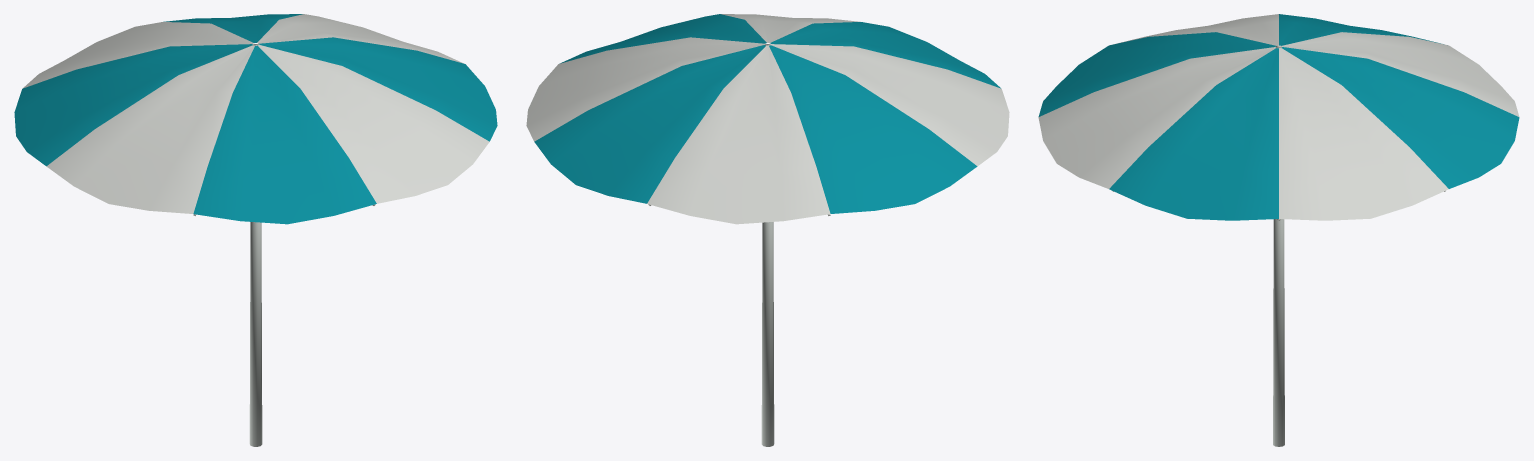
The model's file is beach_umbrella.glb.
3 renders of one model, left to right at view 1: azimuth 30°, elevation 25°; view 2: azimuth 150°, elevation 25°; view 3: azimuth 270°, elevation 25°, orthographic.
Parts seen in each view (by area): view 1: beach_umbrella; view 2: beach_umbrella; view 3: beach_umbrella.
Part boxes in pixels (<box>): beach_umbrella: <box>14,14,497,446</box>; beach_umbrella: <box>526,14,1009,446</box>; beach_umbrella: <box>1038,14,1519,446</box>.
Size of the model in its own units: 2.6 by 2.37 by 2.6.
